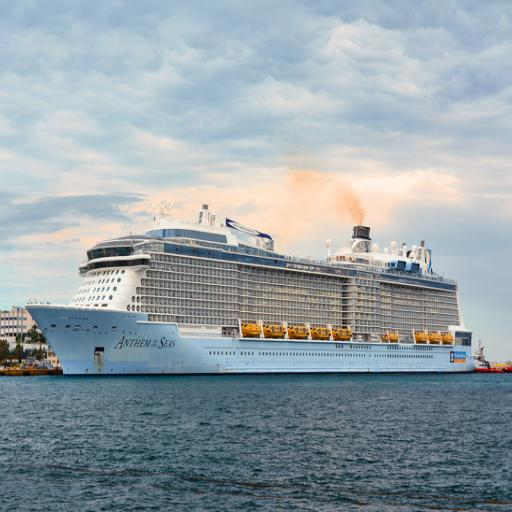cruises: (23, 200, 482, 382)
